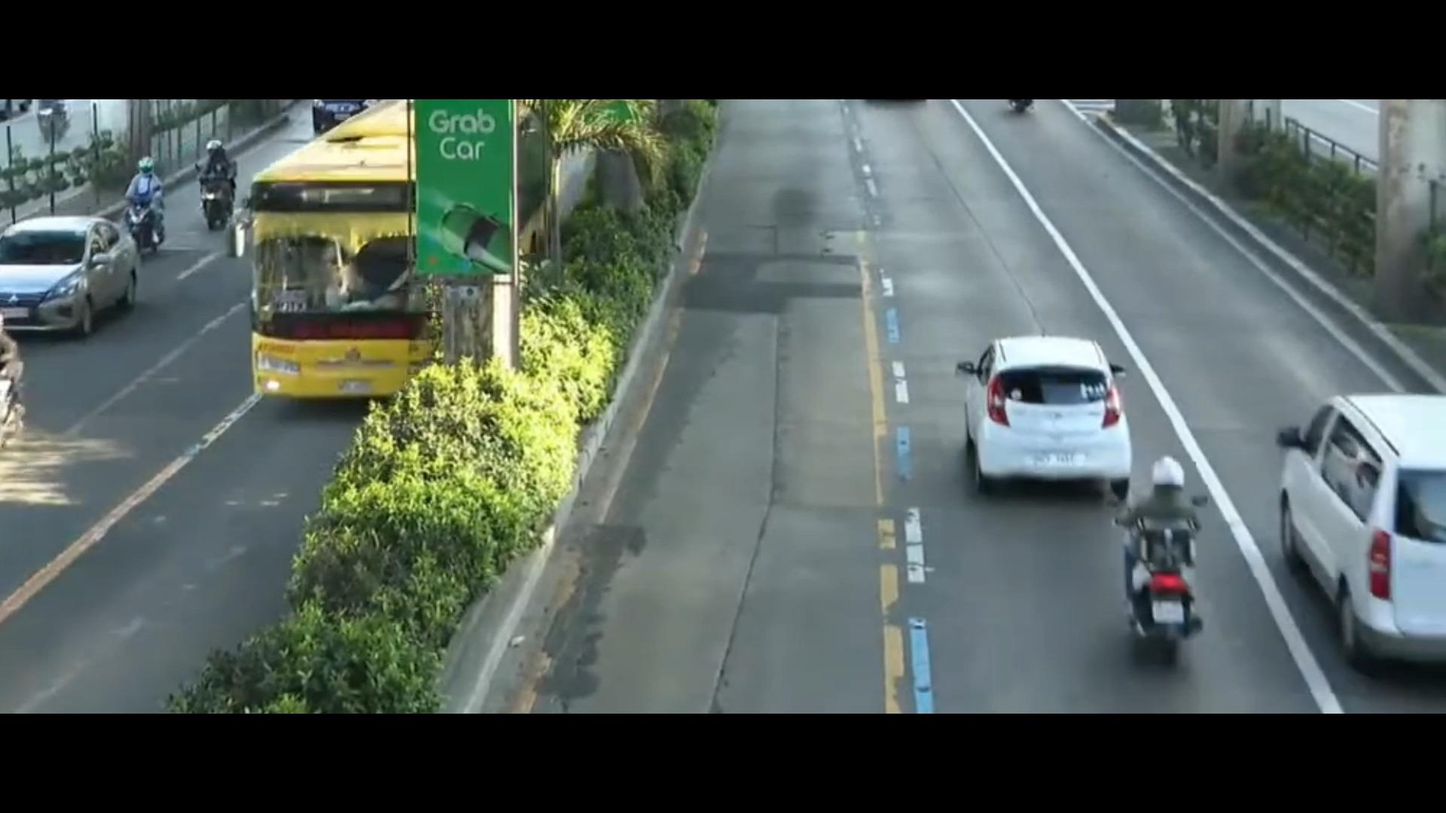Bus: (234, 91, 440, 418)
Motorcycle: (1096, 459, 1218, 662), (108, 157, 183, 272), (179, 140, 249, 248)
SUV: (940, 322, 1146, 493)
Sedan: (0, 194, 138, 353)
Van: (1281, 369, 1446, 669)
